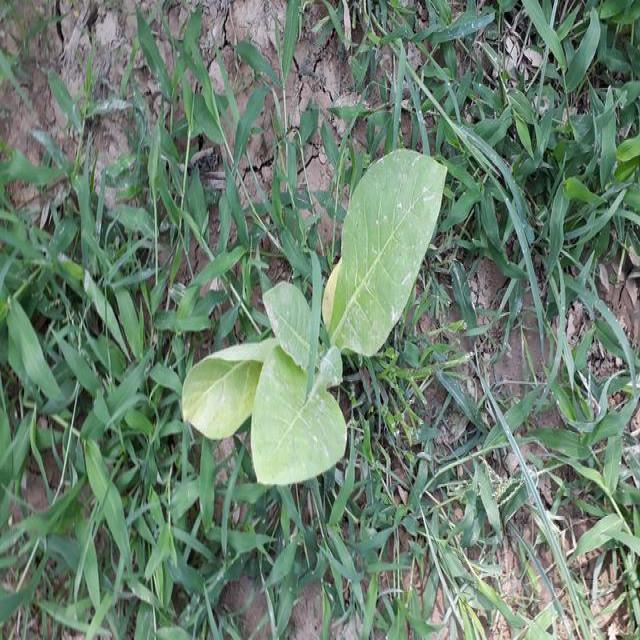crop: (175, 131, 452, 493)
